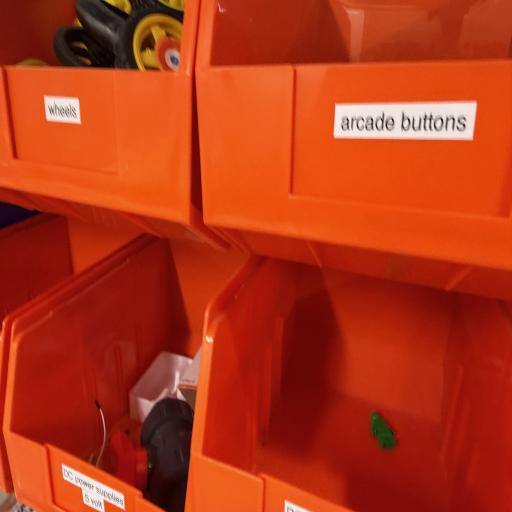Lego-Dude: (370, 412, 396, 449)
